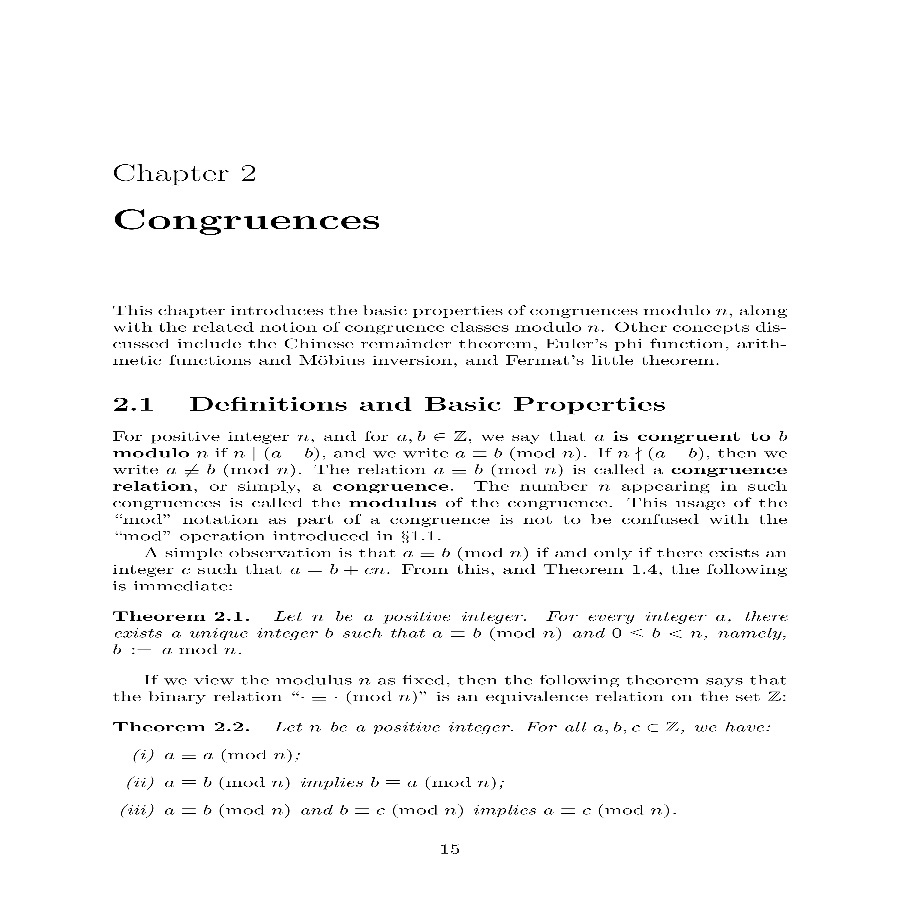eq: (163, 800, 291, 823), (339, 799, 467, 822), (546, 799, 674, 822), (369, 774, 501, 793), (164, 746, 304, 763), (162, 775, 294, 792)
